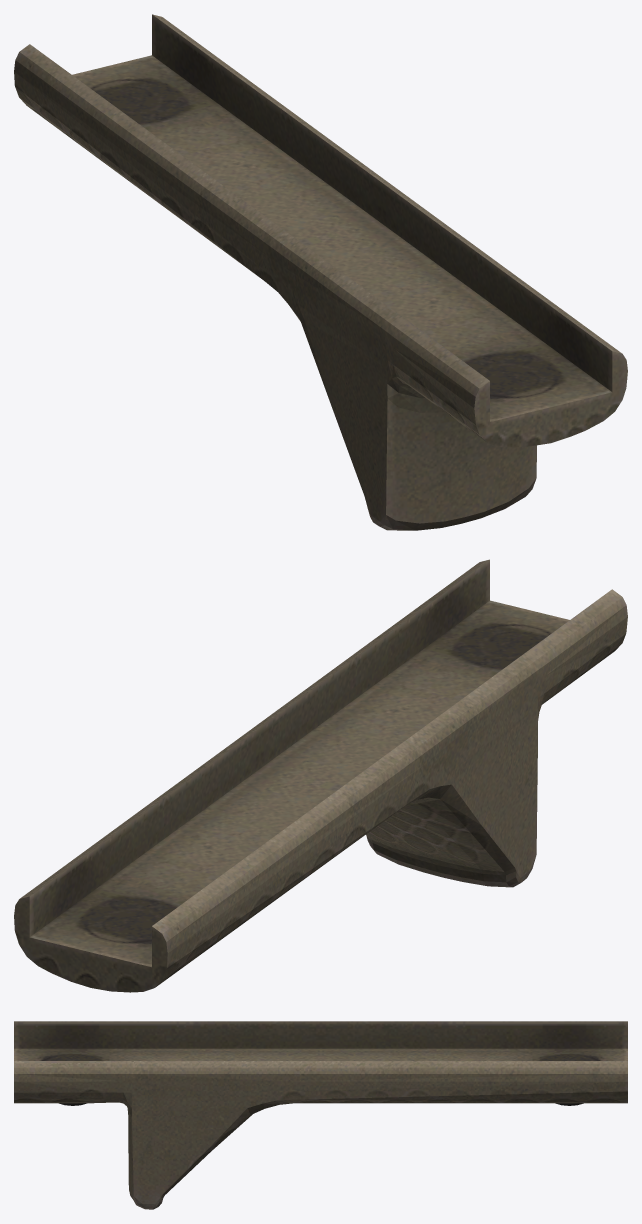
The picture shows the model from 3 angles, top to bottom: view 1: azimuth 30°, elevation 25°; view 2: azimuth 150°, elevation 25°; view 3: azimuth 270°, elevation 25°; orthographic projection. The views are drawn at different scales.
Visible parts, largest first — view 1: TW_5d124c1ad7ad1a12227c53a7_PZ_Import; view 2: TW_5d124c1ad7ad1a12227c53a7_PZ_Import; view 3: TW_5d124c1ad7ad1a12227c53a7_PZ_Import.
Boxes of the visible parts, box(x1,y1,x2,y2) form: TW_5d124c1ad7ad1a12227c53a7_PZ_Import: box(14, 14, 627, 530); TW_5d124c1ad7ad1a12227c53a7_PZ_Import: box(14, 559, 627, 992); TW_5d124c1ad7ad1a12227c53a7_PZ_Import: box(14, 1021, 627, 1209).
Size of the model in its own units: 0.011 by 0.0571 by 0.0156.
Materials: 1 (1 with a texture image).
